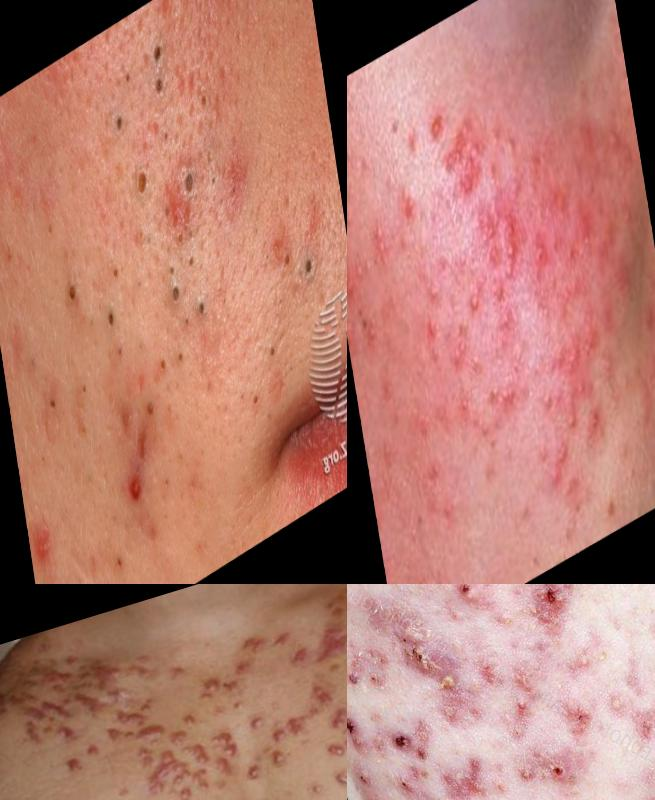acne_scars: (418, 744, 515, 800), (625, 695, 655, 800), (446, 152, 487, 210)
blackhead: (165, 257, 213, 356), (143, 340, 191, 397), (139, 36, 171, 107), (97, 100, 132, 163), (178, 159, 211, 215), (64, 269, 93, 332), (292, 247, 324, 296), (105, 540, 135, 585), (102, 290, 123, 351), (272, 232, 294, 287), (72, 365, 98, 411), (134, 171, 155, 218), (43, 387, 64, 434), (246, 383, 264, 426), (260, 336, 277, 379)
keloid: (127, 730, 218, 800), (294, 585, 348, 677), (79, 647, 161, 700), (173, 689, 260, 736), (1, 658, 77, 711), (277, 680, 343, 741), (20, 695, 82, 756), (246, 711, 298, 776), (53, 735, 113, 782), (239, 621, 298, 664), (205, 720, 244, 780), (191, 667, 240, 706), (109, 694, 159, 729), (314, 719, 348, 764), (285, 642, 321, 676), (131, 717, 173, 745), (303, 775, 328, 800), (332, 759, 348, 797)
papular: (29, 496, 59, 585), (119, 457, 152, 525), (419, 309, 445, 360)
purulent: (501, 236, 526, 292), (421, 109, 447, 154), (465, 284, 489, 328), (583, 223, 602, 262), (348, 265, 359, 323)
sebo-crystan-conglo: (359, 585, 486, 723), (451, 585, 492, 629)
whitehead: (361, 306, 390, 391), (479, 367, 523, 423), (367, 212, 400, 273), (446, 331, 474, 390), (498, 132, 520, 176), (355, 252, 375, 300), (555, 436, 574, 484), (406, 520, 430, 555), (563, 408, 582, 446)
